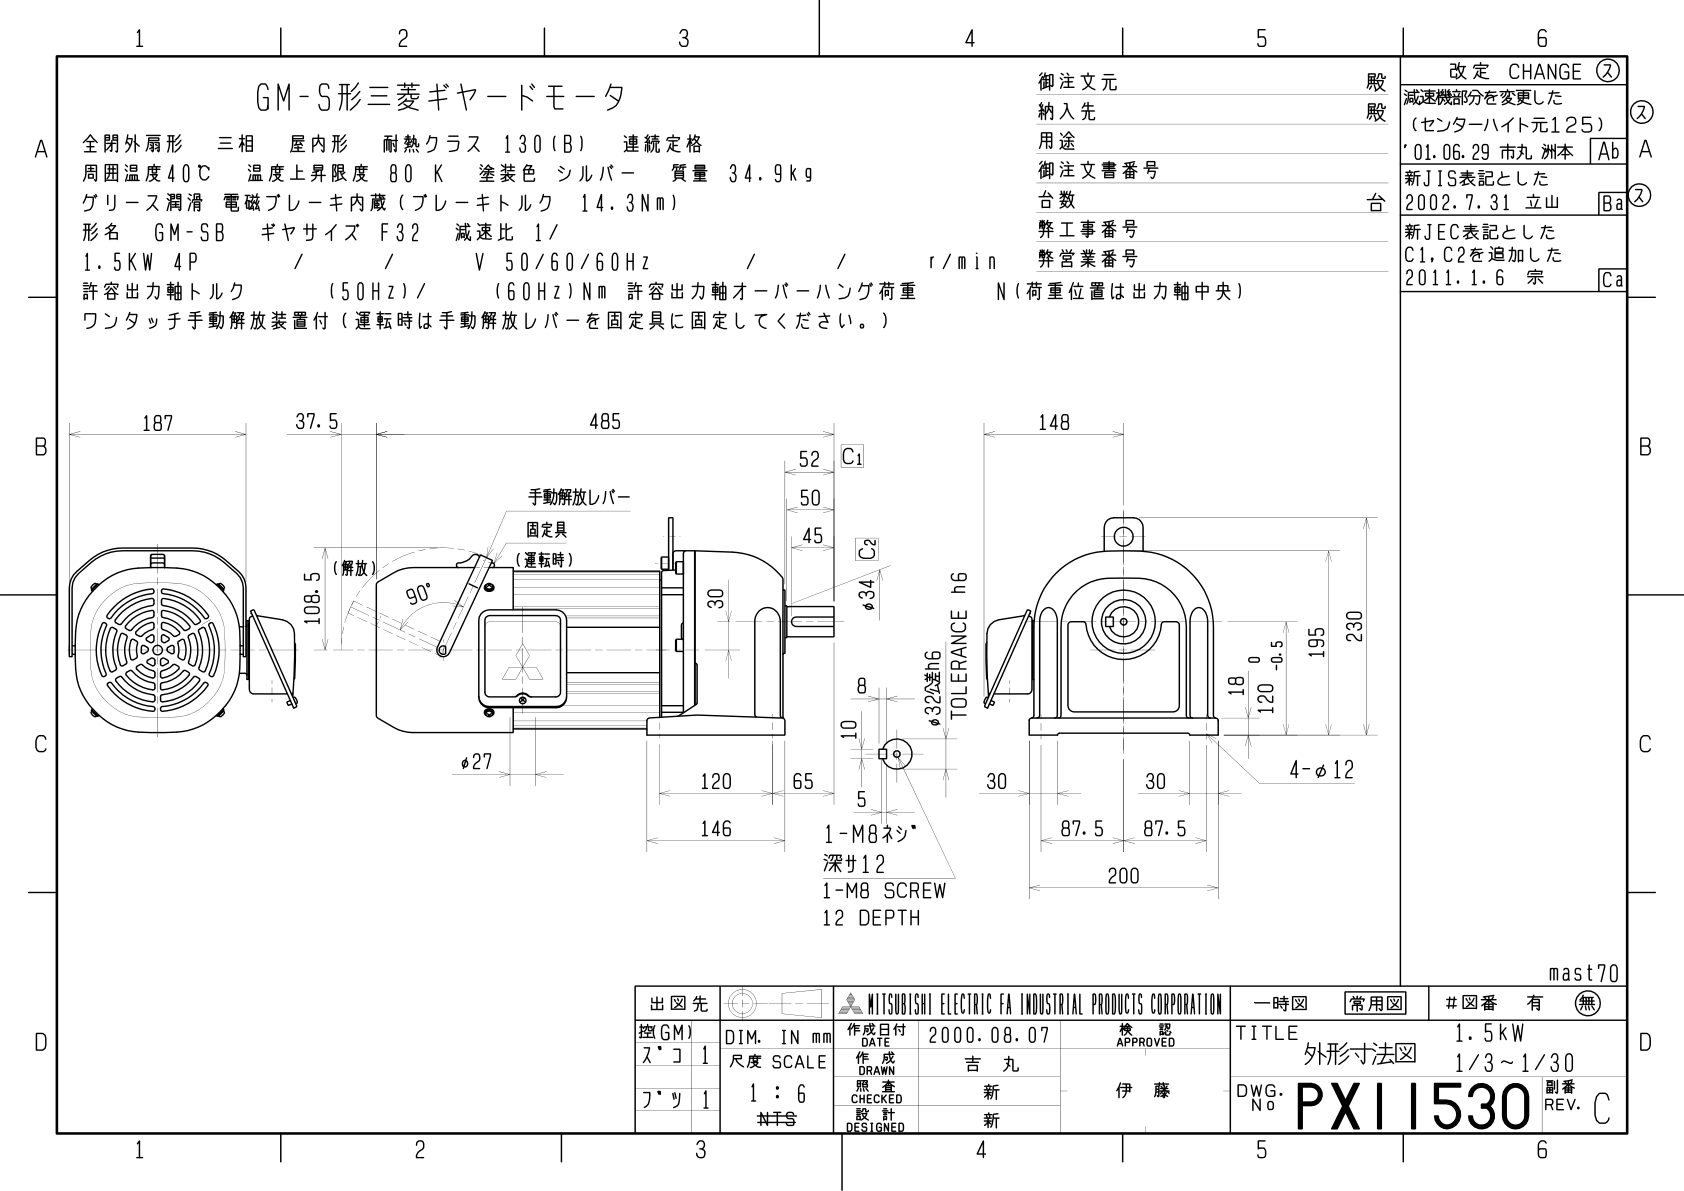GM_S_手動ブレーキ＿三相_脚: (4, 8, 1684, 1191)
